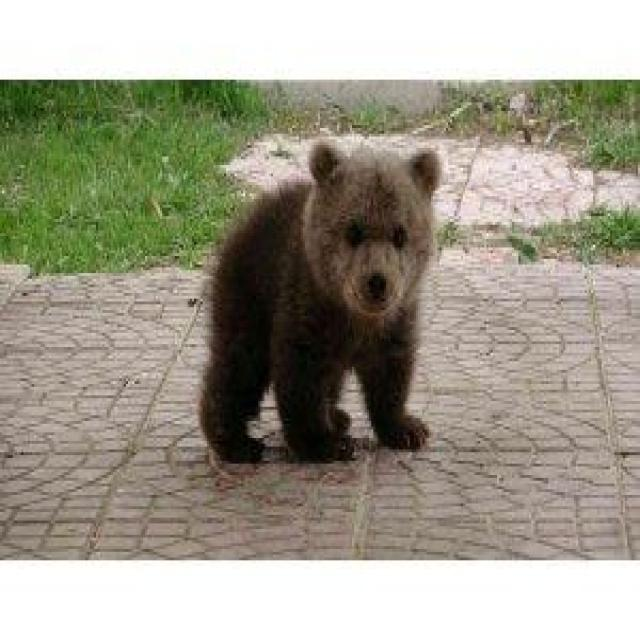Bear: (196, 139, 444, 466)
